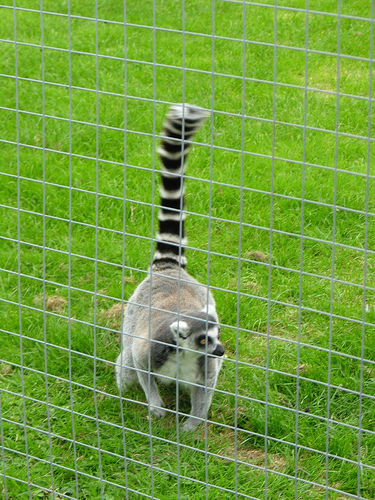cat: (113, 98, 227, 435)
